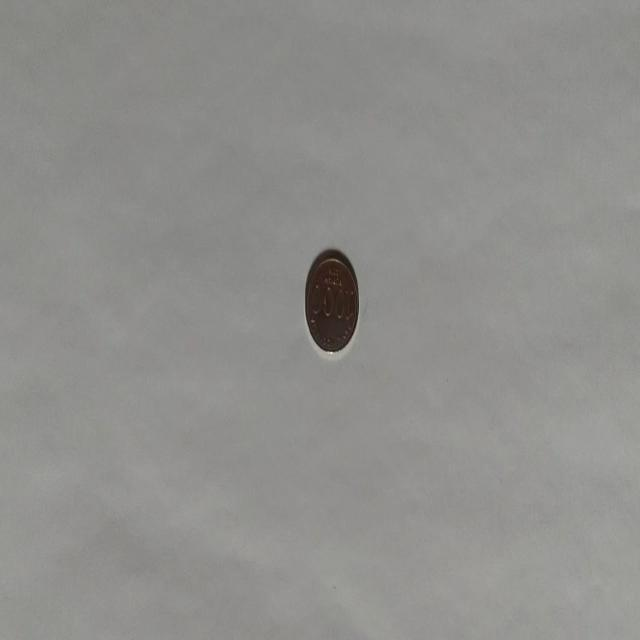seribu rupiah koin: (304, 248, 359, 356)
